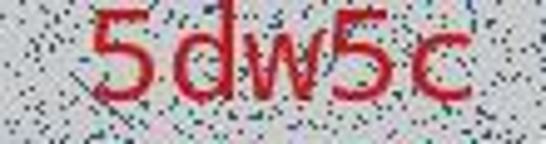5: (83, 3, 163, 110), (327, 3, 395, 102)
c: (410, 20, 487, 120)
d: (168, 1, 241, 101)
w: (241, 15, 328, 111)
